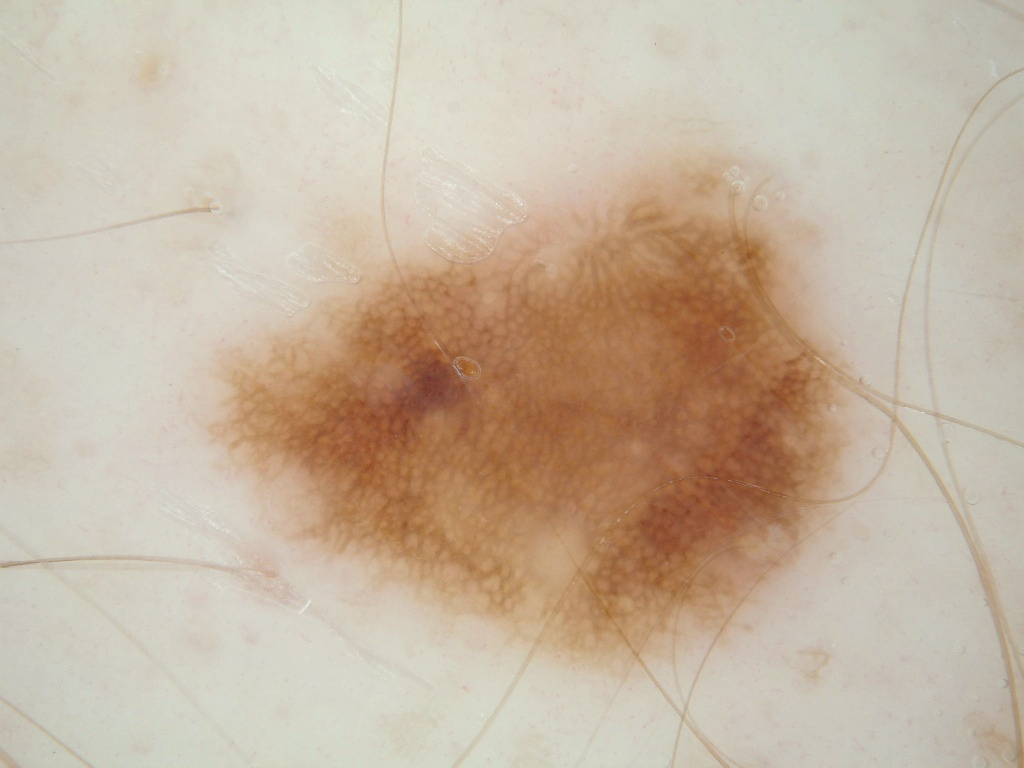Detected Lesion: (206, 160, 866, 677)
